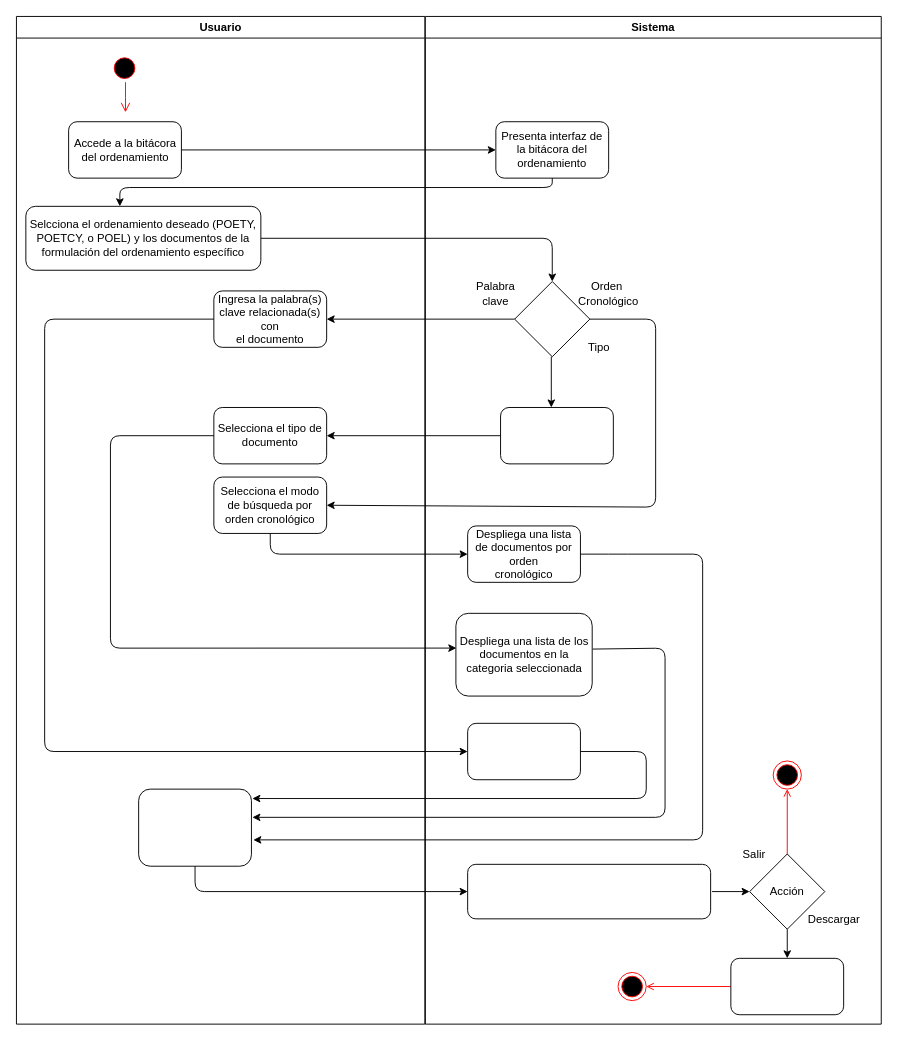
Some shapes in this 898 by 1041 pixel diagram are drawn without their labels. The shapes that lost their labels are listed below. From the top down, each one's centre as x and y in pixels, then its label:
At point 552,319: "Forma de búsqueda".
At point 556,435: "Despliega una lista de documentos por tipo".
At point 523,751: "Despliega una lista de documentos relaciona dos".
At point 194,827: "Selecciona el documento deseado".
At point 589,891: "Visualiza el documento selecc ionado".
At point 787,986: "Descarga documento".
